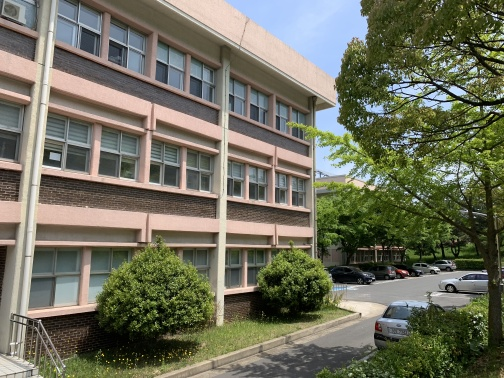College Of Education: (1, 1, 326, 355)
